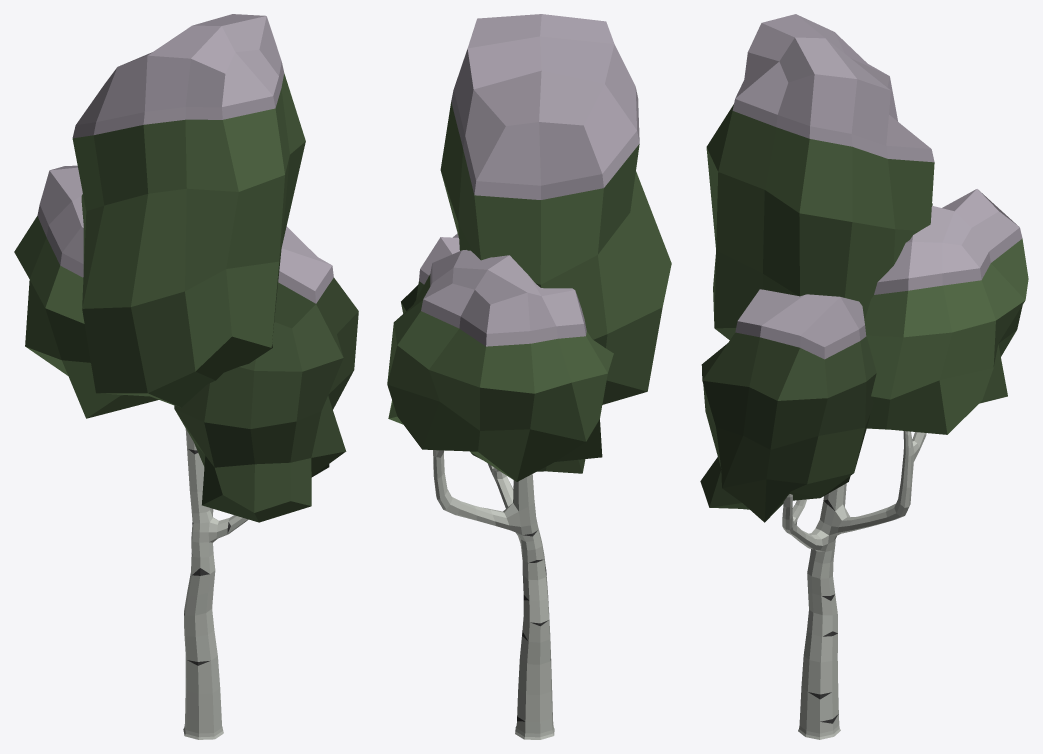
3 renders of one model, left to right at view 1: azimuth 30°, elevation 25°; view 2: azimuth 150°, elevation 25°; view 3: azimuth 270°, elevation 25°, orthographic. The views are drawn at different scales.
Visible parts, largest first — view 1: BirchTree_Snow_3; view 2: BirchTree_Snow_3; view 3: BirchTree_Snow_3.
Part boxes in pixels (x1,y1,x2,y2): BirchTree_Snow_3: [14, 14, 358, 739]; BirchTree_Snow_3: [387, 14, 671, 739]; BirchTree_Snow_3: [700, 14, 1028, 739].
Size of the model in its own units: 1.57 by 4.15 by 1.77.
